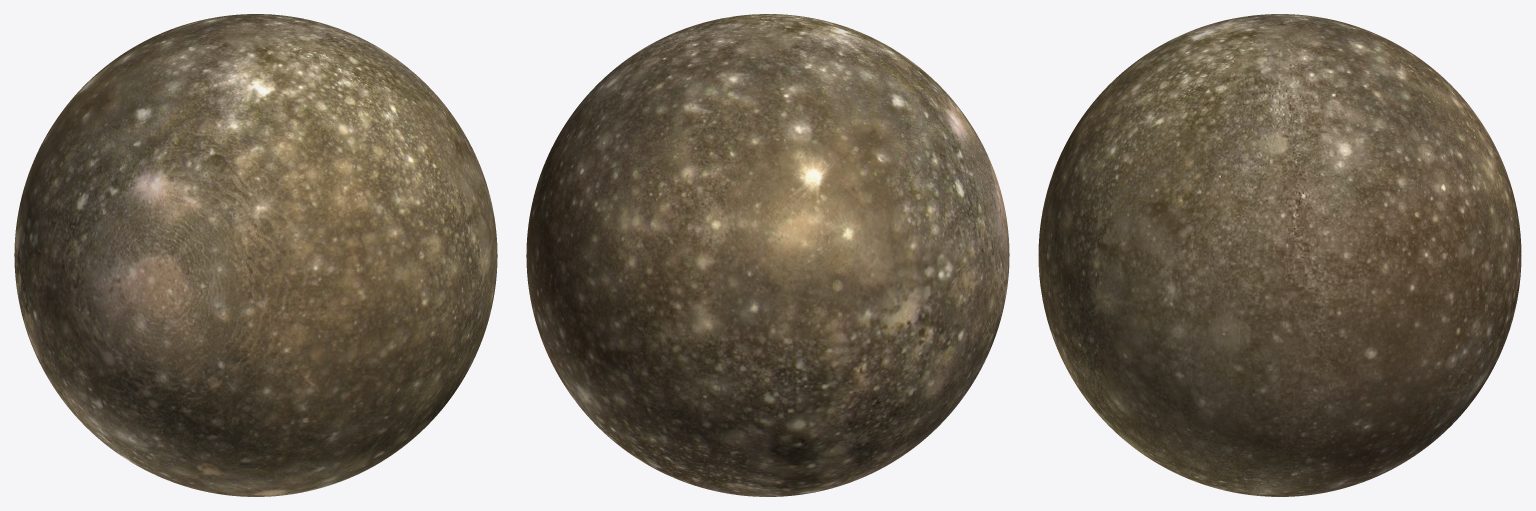
Rendered from callisto.glb.
The picture shows the model from 3 angles, left to right: view 1: azimuth 30°, elevation 25°; view 2: azimuth 150°, elevation 25°; view 3: azimuth 270°, elevation 25°; orthographic projection.
Visible parts, largest first — view 1: callisto_globe; view 2: callisto_globe; view 3: callisto_globe.
Part boxes in pixels (x1,y1,x2,y2): callisto_globe: [14, 14, 497, 496]; callisto_globe: [526, 14, 1009, 496]; callisto_globe: [1038, 14, 1521, 496].
Size of the model in its own units: 2 by 2 by 2.
Materials: 1 (1 with a texture image).
